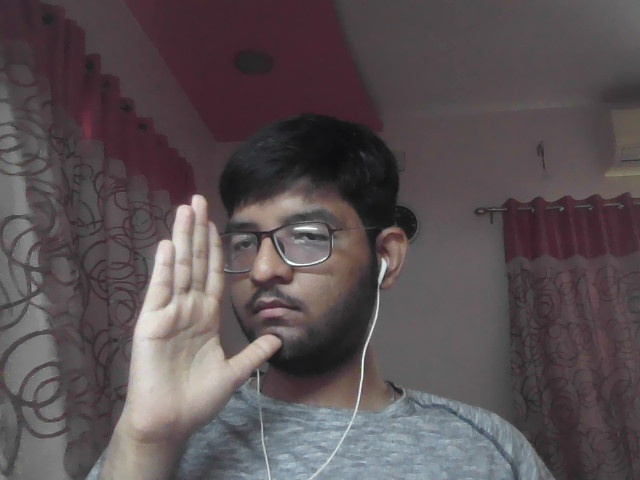માતા: (112, 182, 299, 443)
